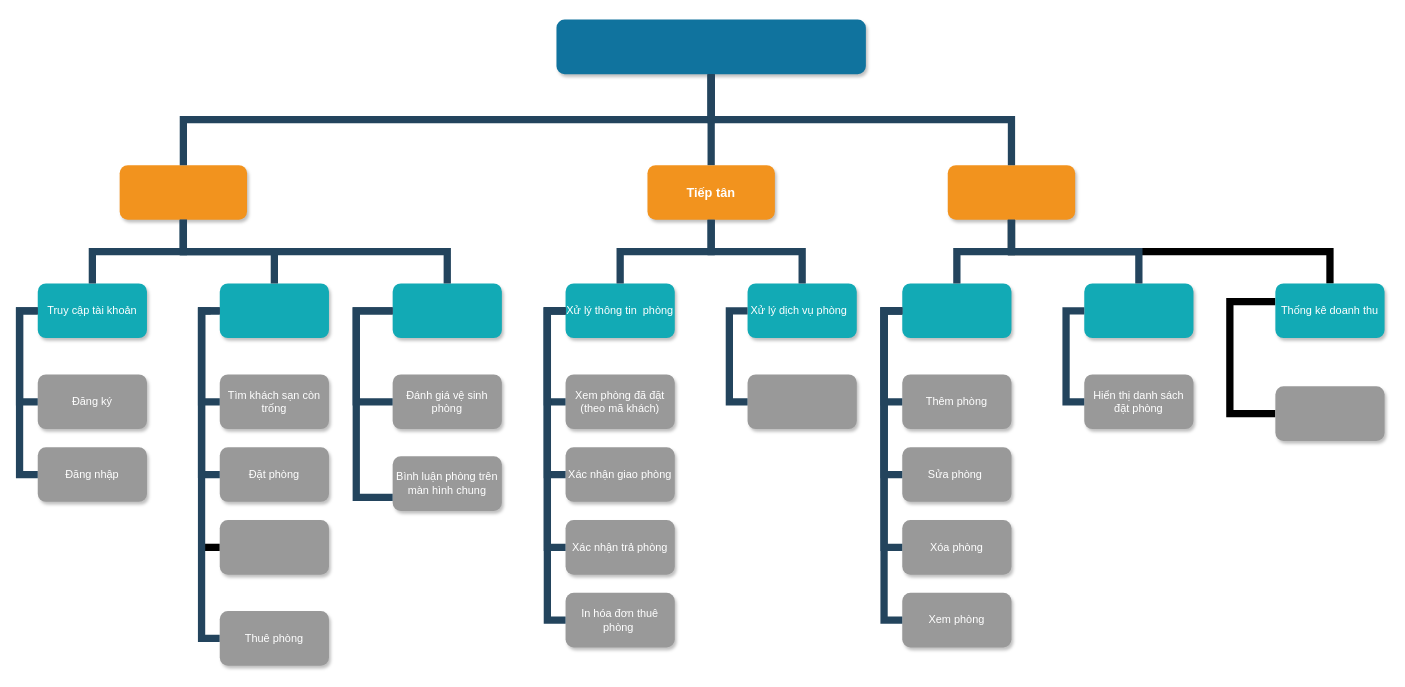
Some shapes in this 1405 by 687 pixel diagram are drawn without their labels. The centre of each missing label's shape, as x and y in pixels:
Khách hàng: (x=184, y=193)
Lưu dịch vụ đã dùng: (x=802, y=402)
Phản hồi dịch vụ: (x=448, y=311)
Quản lý danh sách phòng: (x=957, y=311)
Quản lý danh sách đặt phòng: (x=1139, y=311)
Quản lý đặt phòng: (x=711, y=47)
Quản trị: (x=1012, y=193)
Thống kê doanh thu theo tháng: (x=1330, y=414)
Tìm kiếm phòng ở: (x=275, y=311)
Xem thông tin đã đặt: (x=275, y=548)
